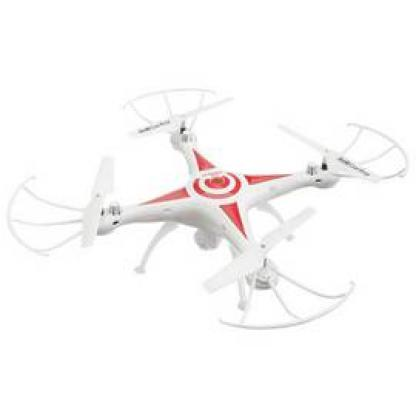drone: (5, 91, 410, 317)
